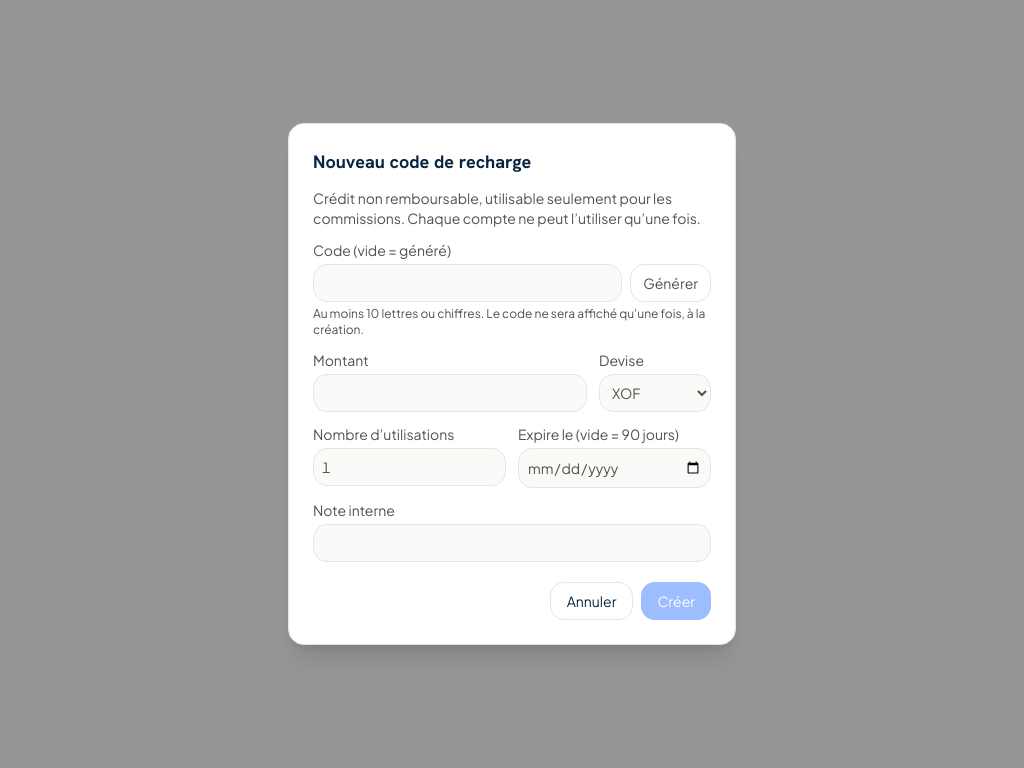
Scenario: TopupCodeForm › code saisi de moins de 10 lettres ou chiffres : Créer désactivé et règle en rouge
The width and height of the screenshot is (1024, 768).
Type "10" into the field with test id "topup-amount" at (450, 393), box [313,374,587,412]
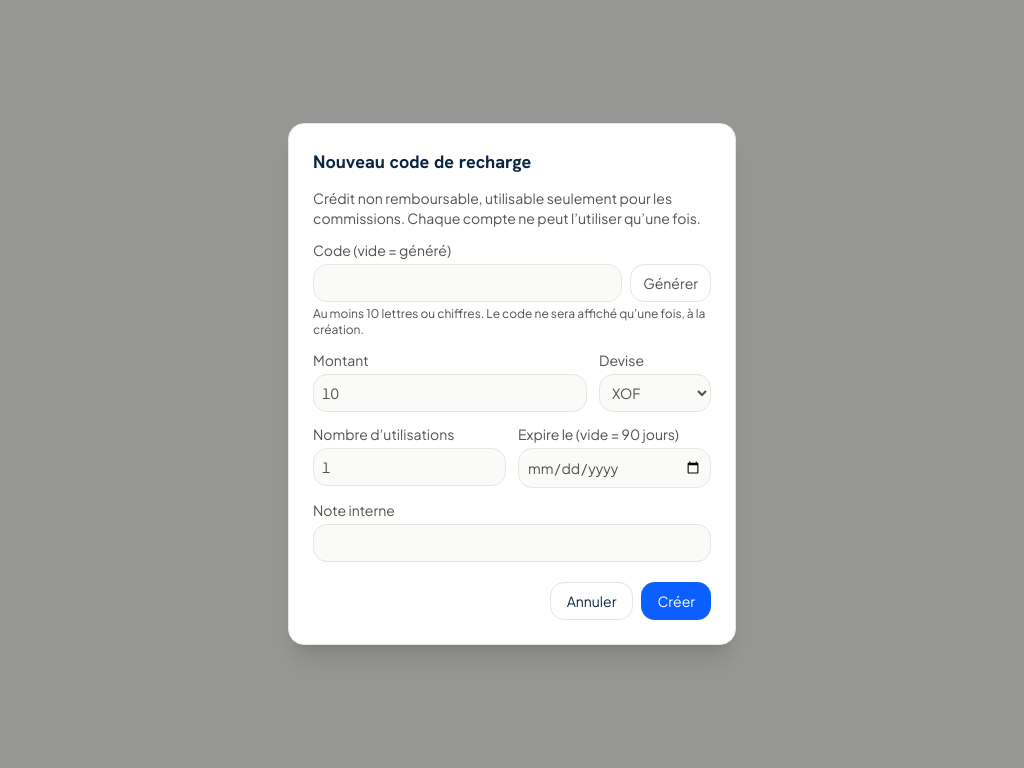
Type "DAKAR-2000" into the field with test id "topup-code" at (468, 283), box [313,264,622,302]
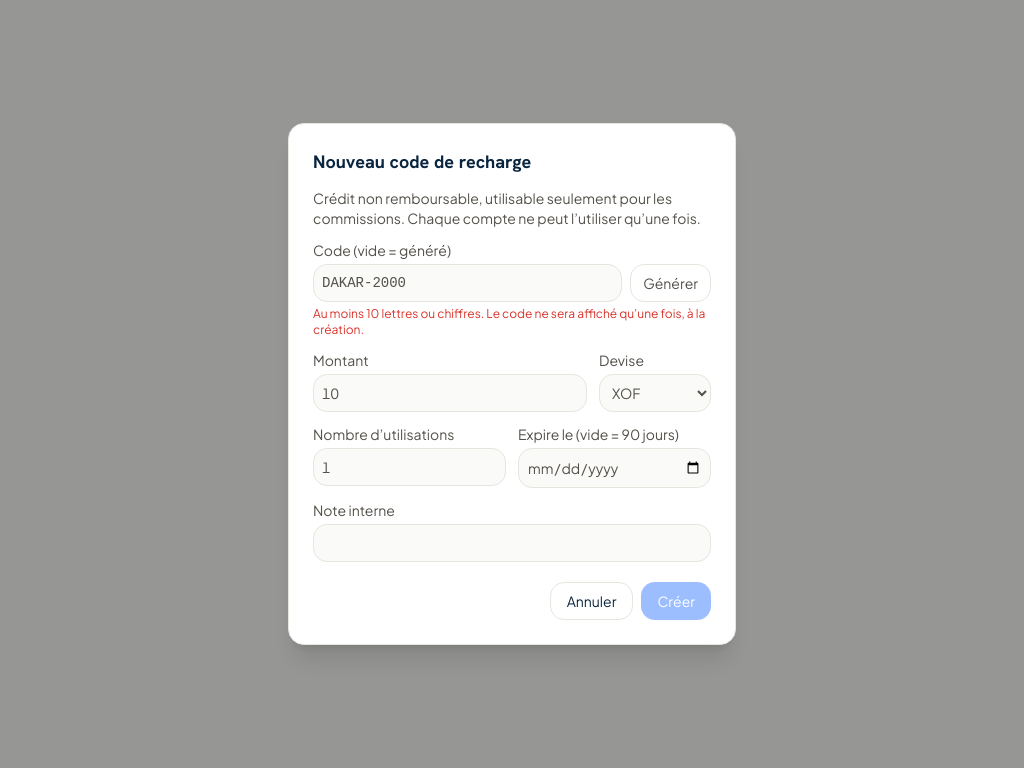
Now the button with test id "topup-submit" is disabled, box [641,582,711,620]
Submit the form, box [288,123,736,645]
Replace the text in the field with test id "topup-code" with "DAKAR-20001" at (468, 283), box [313,264,622,302]
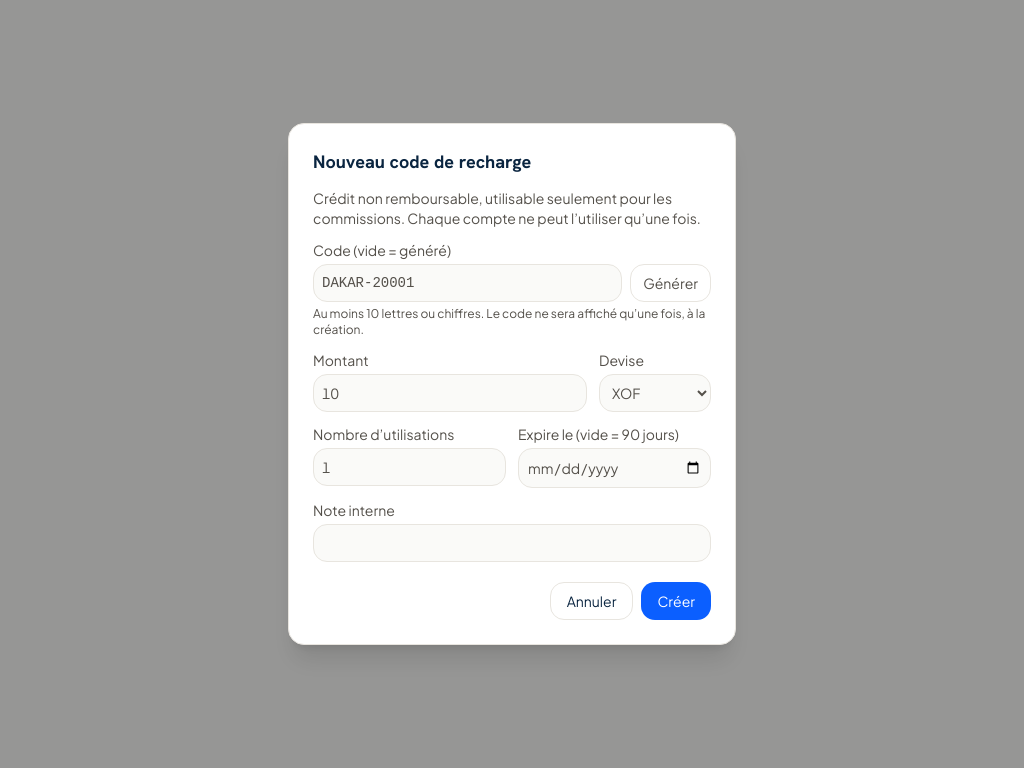
Now the button with test id "topup-submit" is enabled, box [641,582,711,620]
